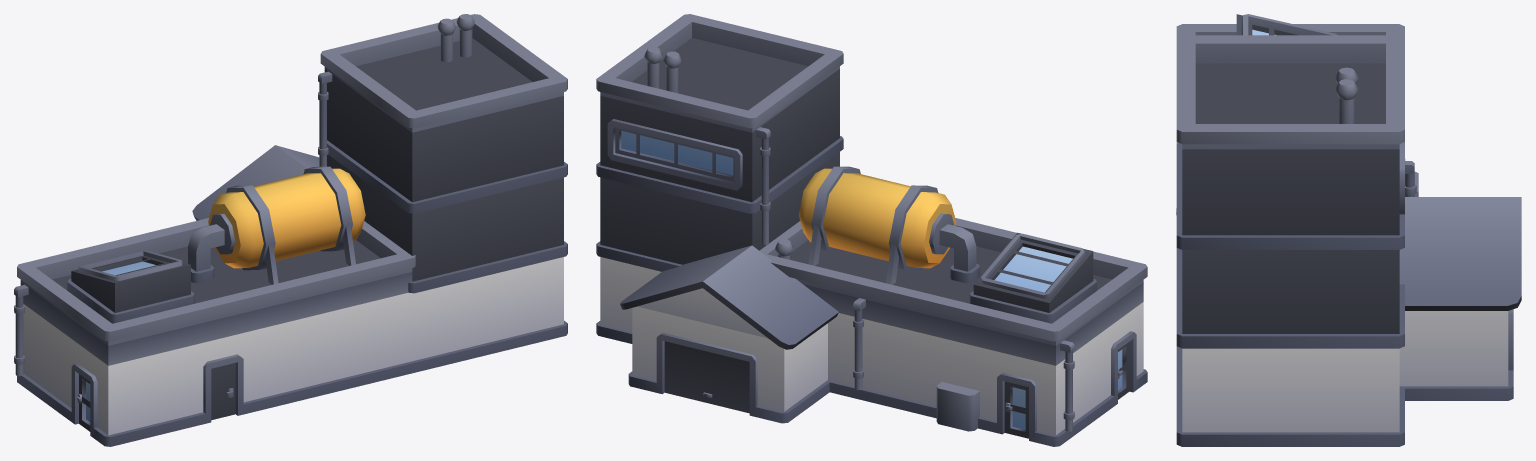
Rendered from building-r_lev1.glb.
The picture shows the model from 3 angles, left to right: view 1: azimuth 30°, elevation 25°; view 2: azimuth 150°, elevation 25°; view 3: azimuth 270°, elevation 25°; orthographic projection. The views are drawn at different scales.
Parts seen in each view (by area): view 1: building-r_lev1; view 2: building-r_lev1; view 3: building-r_lev1.
Boxes of the visible parts, left/top/right/bottom form: building-r_lev1: left=14, top=14, right=567, bottom=446; building-r_lev1: left=596, top=14, right=1147, bottom=446; building-r_lev1: left=1176, top=14, right=1521, bottom=446.
Bounding box in the file's own units: 15.09 × 8.46 × 7.73.
1 material, 1 textured.
